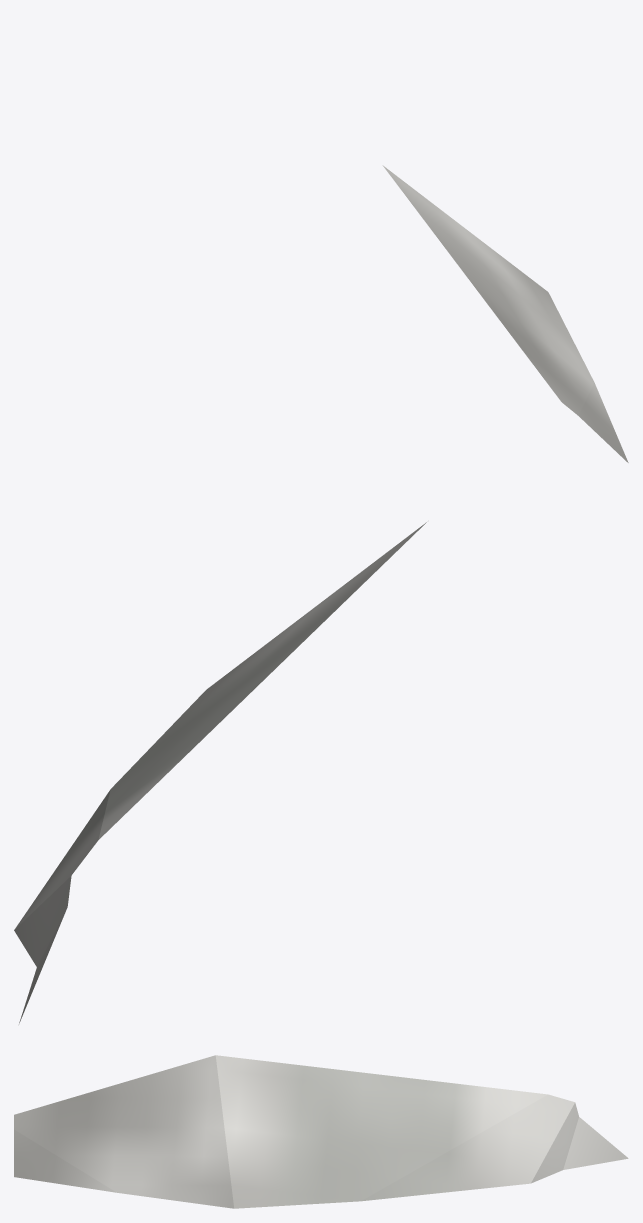
The picture shows the model from 3 angles, top to bottom: view 1: azimuth 30°, elevation 25°; view 2: azimuth 150°, elevation 25°; view 3: azimuth 270°, elevation 25°; orthographic projection. The views are drawn at different scales.
Bounding box in the file's own units: 0.0437 × 0.0421 × 0.2266.
1 material, 1 textured.
